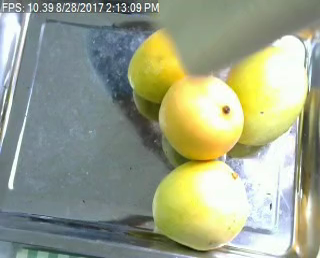Mango: (151, 159, 248, 250), (224, 43, 307, 147), (158, 74, 246, 162), (126, 29, 198, 102)
